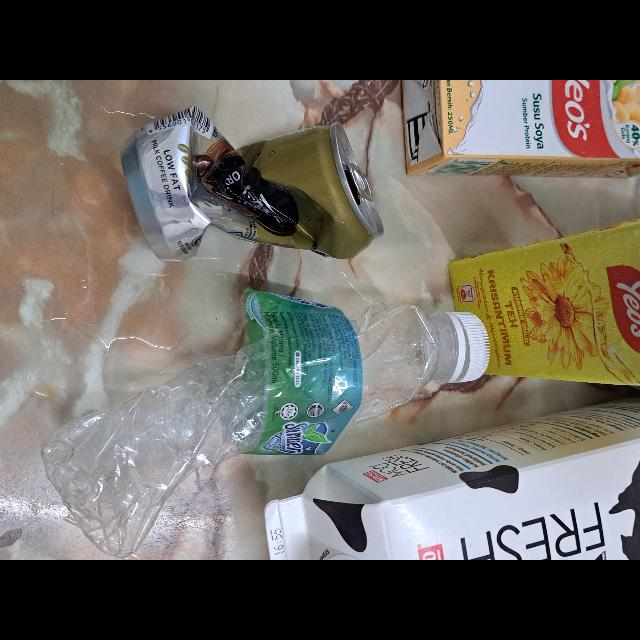aba de lata: (350, 163, 374, 201)
caixinha: (264, 400, 640, 560), (448, 220, 640, 386), (398, 80, 640, 178)
garrafa plástica: (40, 288, 458, 556)
lata: (118, 104, 384, 260)
tampa plástica: (451, 311, 491, 384)
